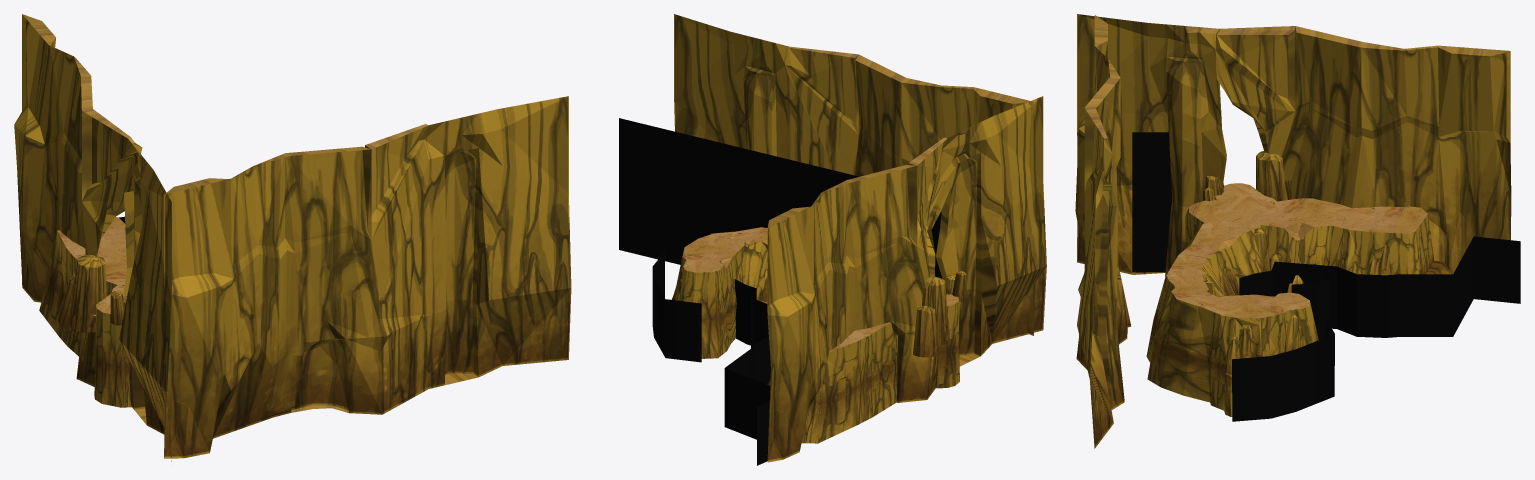
The model's file is 1-2Cave1.FBX.
3 views of the same model, side by side, from view 1: azimuth 30°, elevation 25°; view 2: azimuth 150°, elevation 25°; view 3: azimuth 270°, elevation 25° (orthographic). The views are drawn at different scales.
Parts seen in each view (by area): view 1: Object012; view 2: Object012, Plane012; view 3: Object012, Plane012.
Boxes of the visible parts, x1,y1,x2,y2 form: Object012: [14, 14, 571, 461]; Object012: [671, 14, 1046, 462]; Plane012: [619, 118, 942, 465]; Object012: [1075, 14, 1511, 448]; Plane012: [1132, 132, 1520, 421].
Bounding box in the file's own units: 880 × 796 × 515.
